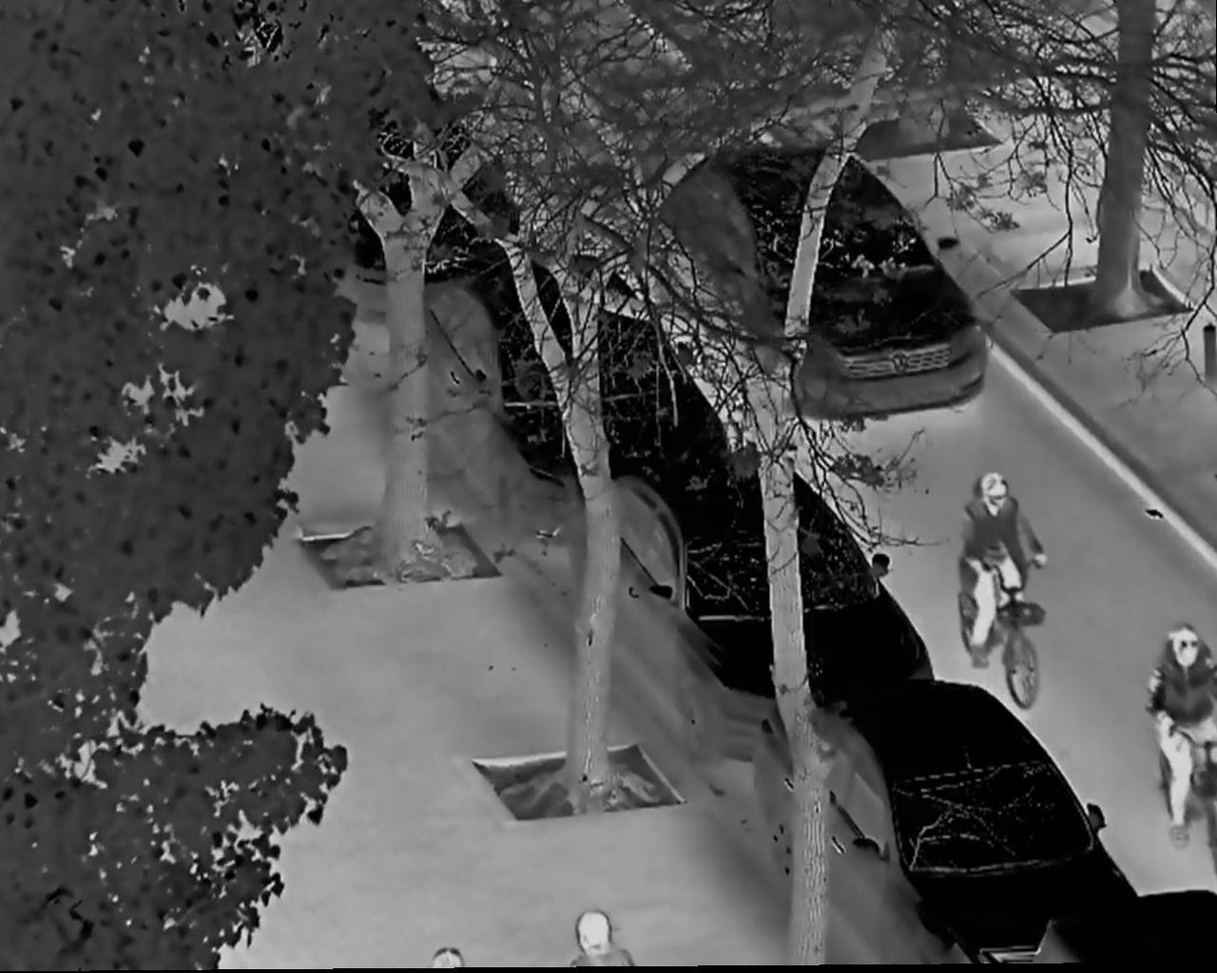person: (962, 471, 1050, 674), (1148, 626, 1217, 851)
